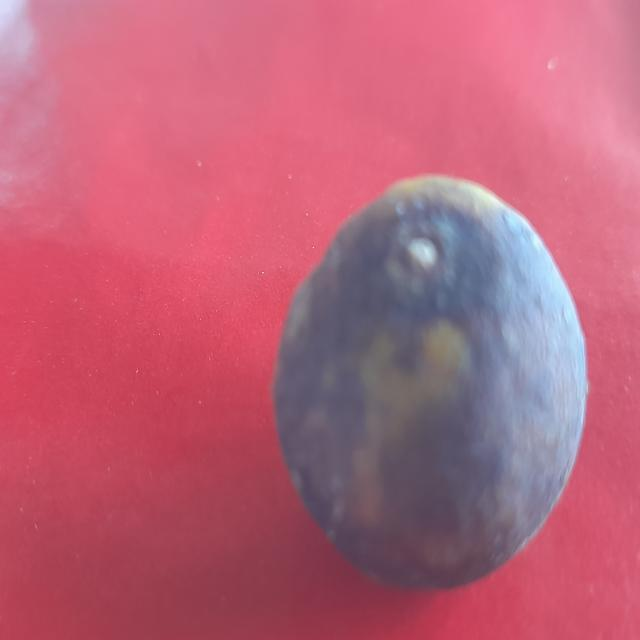black spot: (274, 171, 585, 587)
